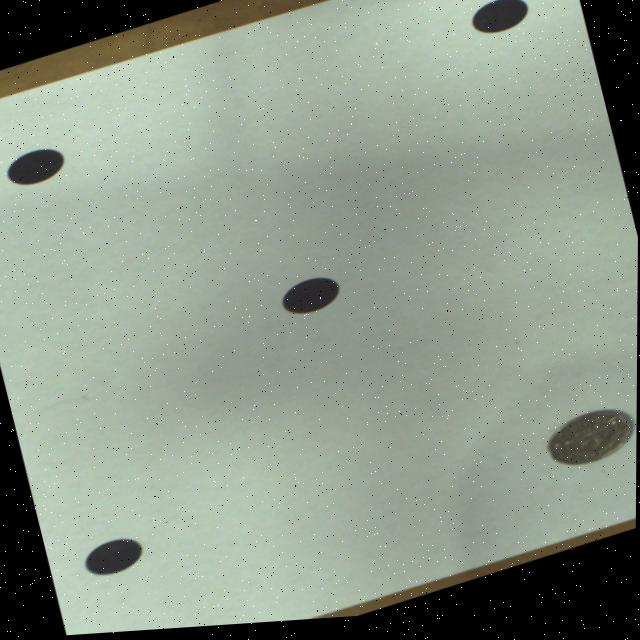space: (6, 149, 64, 185), (281, 282, 338, 318), (85, 540, 142, 576), (472, 5, 527, 40)
tail5bath: (547, 419, 633, 473)
